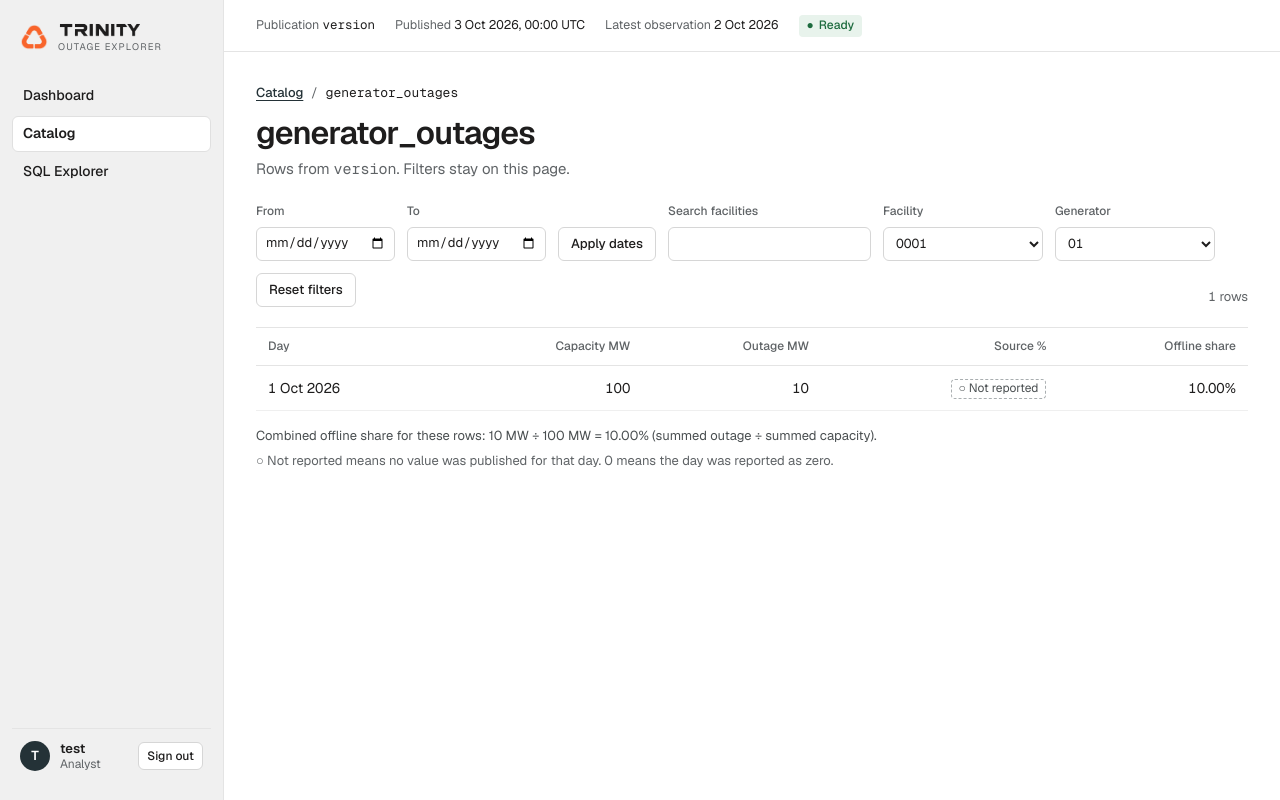
Test: changing parent facility clears an exact linked generator without eagerly fetching generators
The image size is (1280, 800).
Expected: the text "Combined offline share for these rows: 10 MW ÷ 100 MW = 10.00% (summed outage ÷ summed capacity)." is shown, [256,427,877,444]
Expected: the dropdown labelled "Generator" shows "01", [1055,227,1215,261]
Select "Second (0002)" in the dropdown labelled "Facility" at x=963, y=244, box [883,227,1043,261]
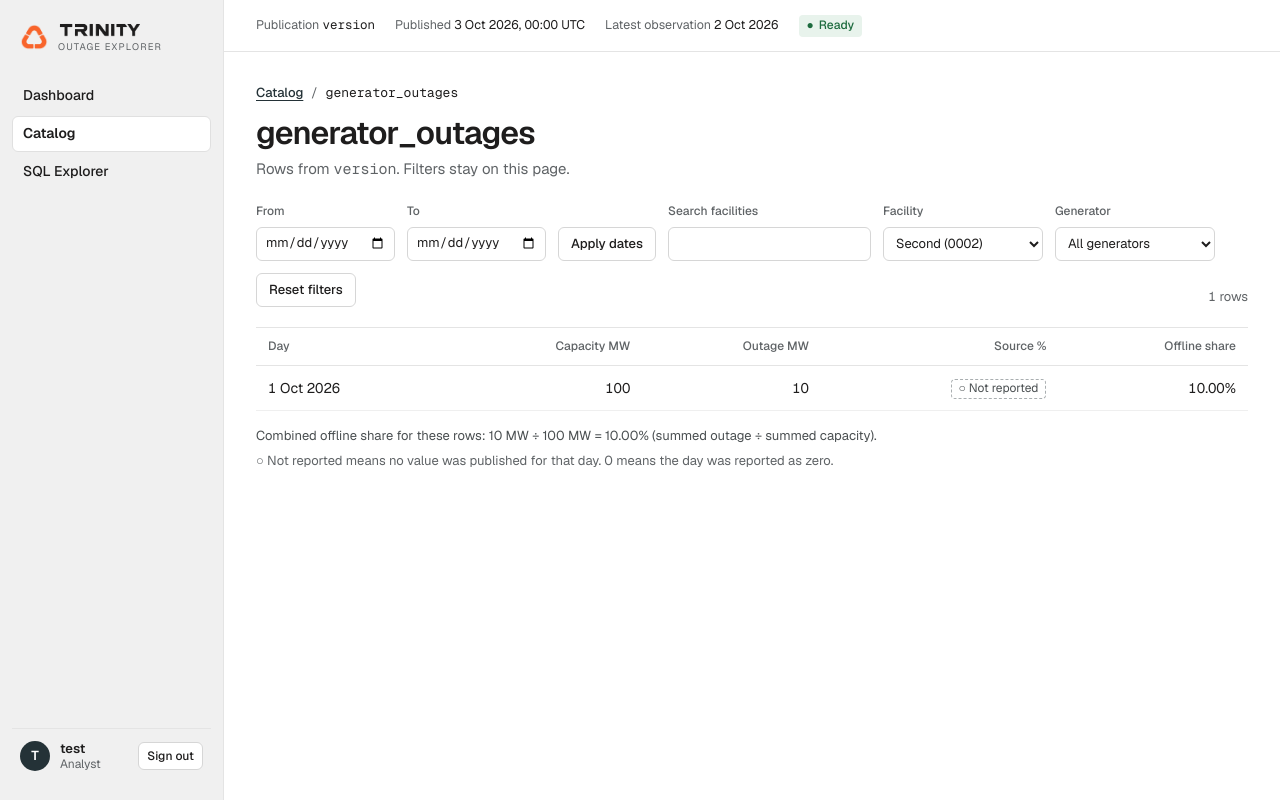
Result: the dropdown labelled "Generator" shows "All generators" at [1055,227,1215,261]
